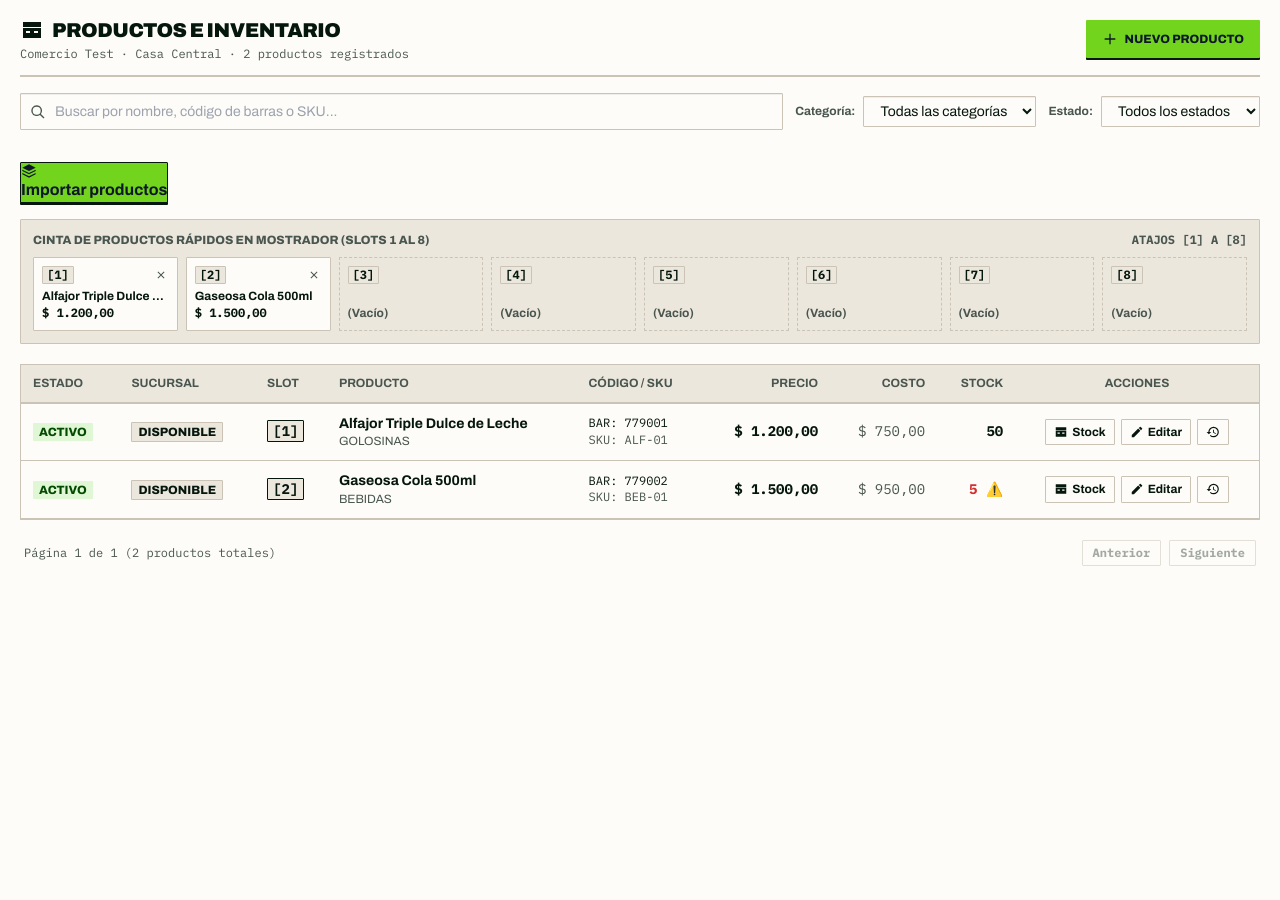
Test: ProductsScreen ("Mostrador vivo" Visual Catalog) › opens and closes product creation dialog
Click the button "NUEVO PRODUCTO": [1173, 39] box [1086, 20, 1260, 58]
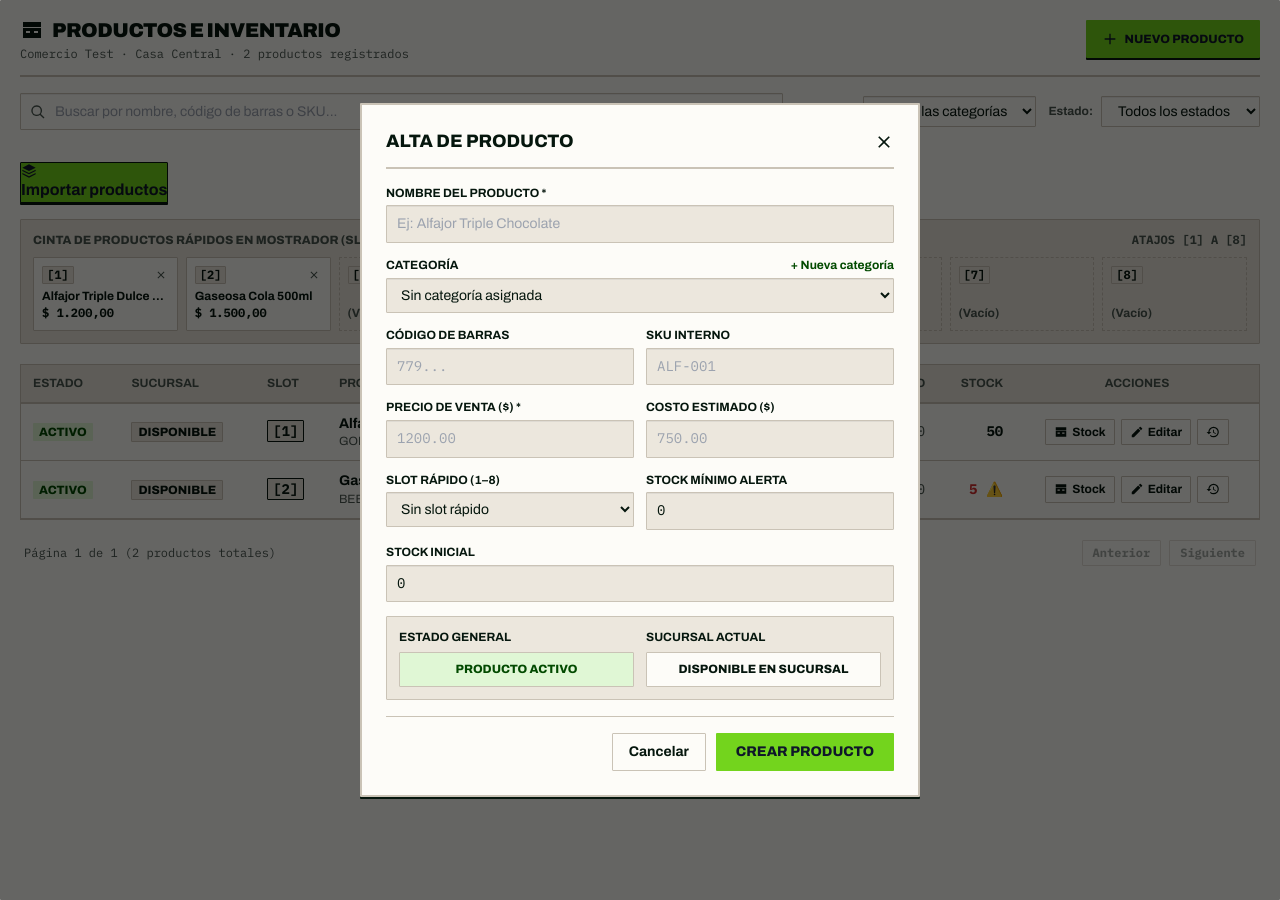
Expected: the heading "ALTA DE PRODUCTO" is shown, [386, 129, 574, 155]
Expected: the field with placeholder "Ej: Alfajor Triple Chocolate" is shown, [386, 205, 894, 243]
Click the button "Cancelar": [659, 752] box [612, 733, 706, 771]
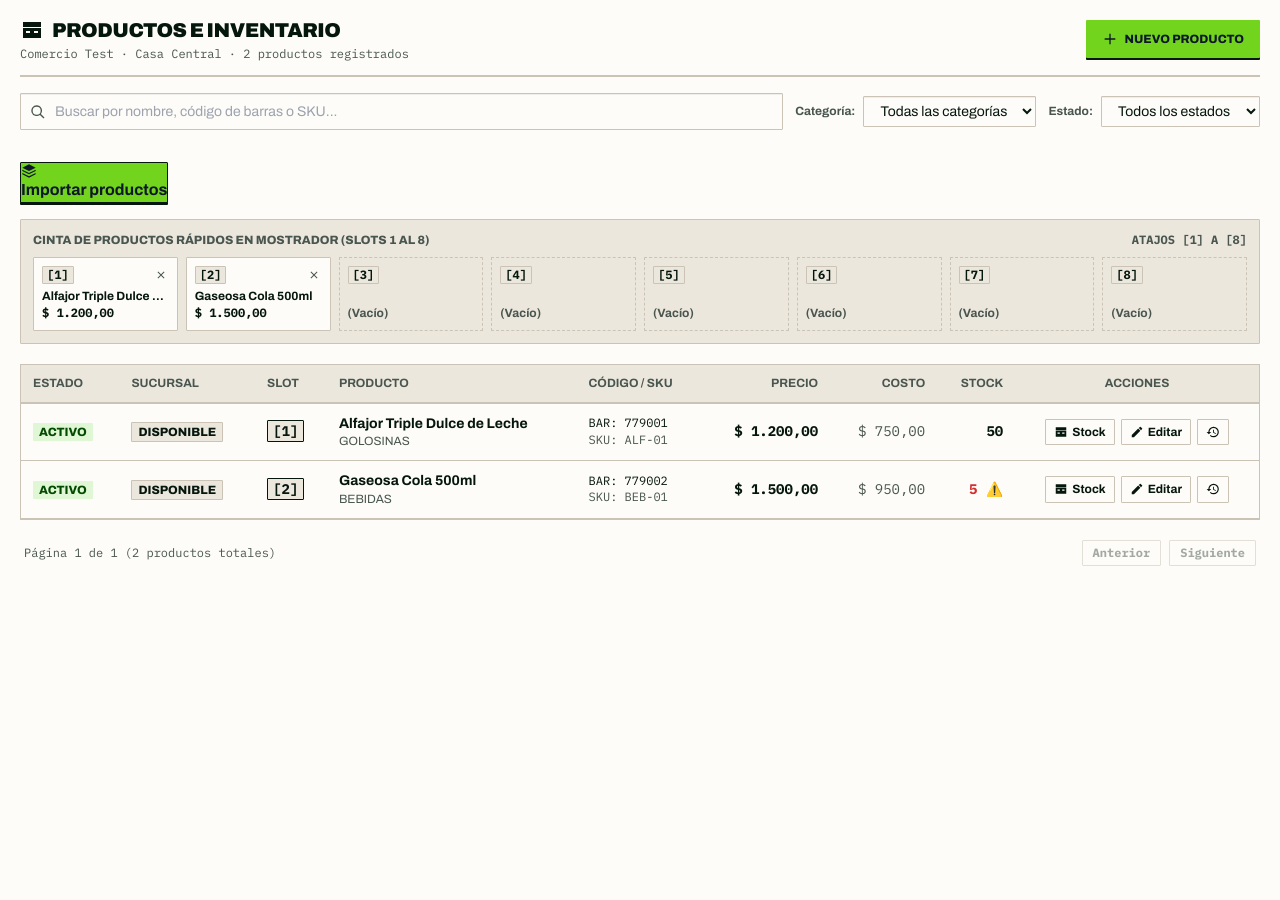
Expected: the heading "ALTA DE PRODUCTO" is gone
